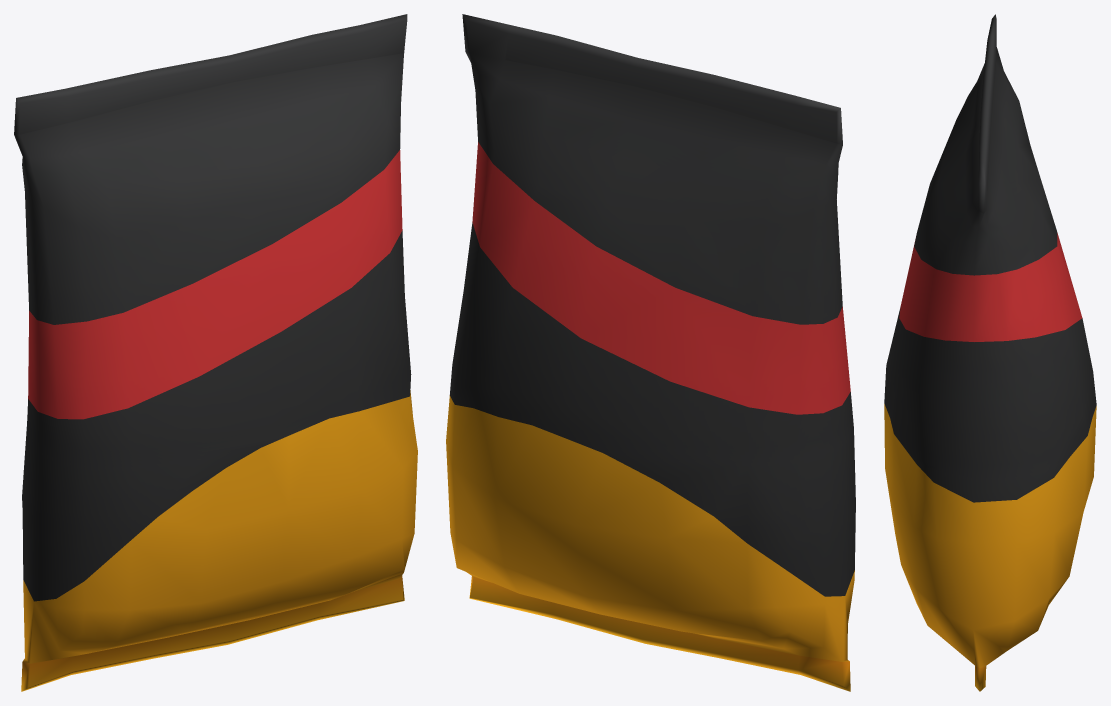
File: chips_002.fbx
3 renders of one model, left to right at view 1: azimuth 30°, elevation 25°; view 2: azimuth 150°, elevation 25°; view 3: azimuth 270°, elevation 25°, orthographic. The views are drawn at different scales.
Parts seen in each view (by area): view 1: chips_002; view 2: chips_002; view 3: chips_002.
Part boxes in pixels (x1=…): chips_002: x1=14, y1=14, x2=417, y2=691; chips_002: x1=446, y1=14, x2=855, y2=691; chips_002: x1=884, y1=14, x2=1096, y2=691.
Bounding box in the file's own units: 15.92 × 8.63 × 23.18.
